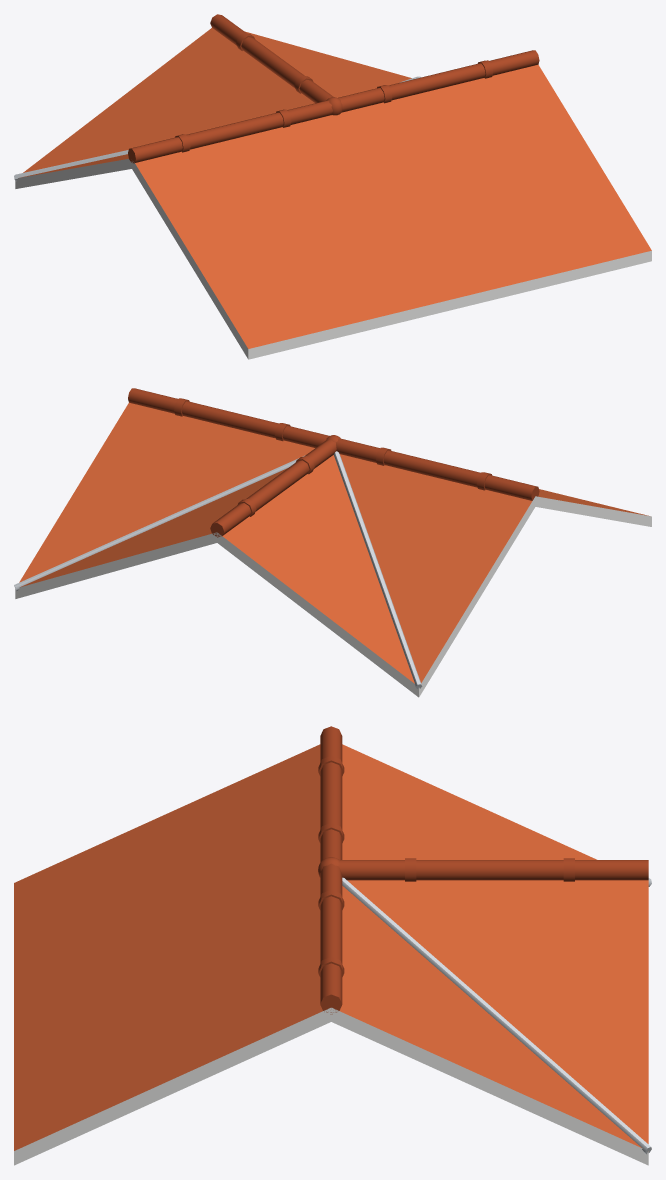
The model's file is telhado_encontro_t_v4_i50.glb.
3 views of the same model, one above another, from view 1: azimuth 30°, elevation 25°; view 2: azimuth 150°, elevation 25°; view 3: azimuth 270°, elevation 25° (orthographic). The views are drawn at different scales.
Parts seen in each view (by area): view 1: telhado_encontro_t_v4_i50; view 2: telhado_encontro_t_v4_i50; view 3: telhado_encontro_t_v4_i50.
Boxes of the visible parts, x1=… form: telhado_encontro_t_v4_i50: x1=14, y1=14, x2=651, y2=359; telhado_encontro_t_v4_i50: x1=14, y1=388, x2=651, y2=697; telhado_encontro_t_v4_i50: x1=14, y1=726, x2=651, y2=1165.
Bounding box in the file's own units: 4.04 × 1.21 × 4.02.
4 materials, 1 textured.
